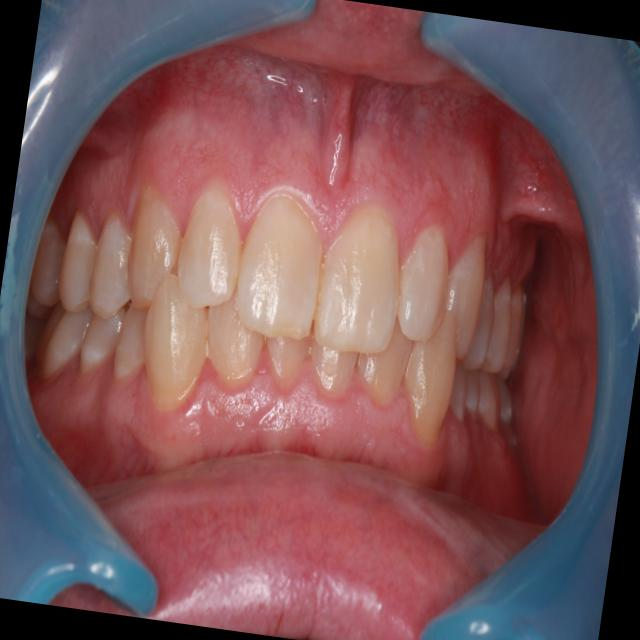tooth: (220, 167, 349, 364), (305, 189, 422, 368), (123, 259, 233, 434), (161, 170, 262, 321), (109, 175, 202, 331), (381, 203, 466, 366), (395, 305, 469, 458), (194, 282, 281, 397), (435, 221, 497, 374), (79, 201, 150, 329), (45, 200, 110, 325), (28, 288, 94, 401), (353, 311, 419, 421), (251, 312, 322, 400), (473, 262, 522, 387), (23, 213, 74, 326), (301, 317, 367, 402), (105, 295, 157, 397), (71, 295, 127, 387), (464, 264, 507, 380), (500, 275, 530, 384), (469, 369, 511, 438), (443, 358, 475, 429), (511, 281, 532, 374), (457, 366, 489, 426), (492, 378, 522, 435)
